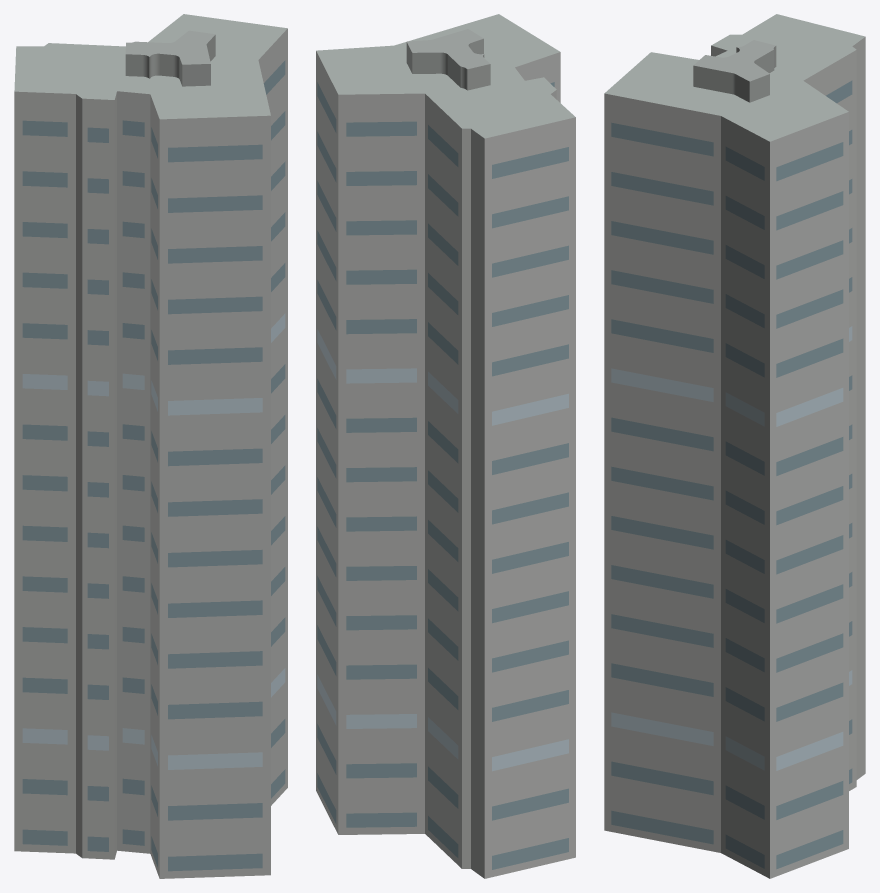
File: fallback-gangdong-lotte-castle-first-126.glb
The picture shows the model from 3 angles, left to right: view 1: azimuth 30°, elevation 25°; view 2: azimuth 150°, elevation 25°; view 3: azimuth 270°, elevation 25°; orthographic projection. The views are drawn at different scales.
Parts seen in each view (by area): view 1: fallback-gangdong-lotte-castle-first-126; view 2: fallback-gangdong-lotte-castle-first-126; view 3: fallback-gangdong-lotte-castle-first-126.
Boxes of the visible parts, x1,y1,x2,y2 form: fallback-gangdong-lotte-castle-first-126: (14, 14, 287, 878); fallback-gangdong-lotte-castle-first-126: (316, 14, 575, 878); fallback-gangdong-lotte-castle-first-126: (604, 14, 865, 878).
Bounding box in the file's own units: 31.1 × 86 × 26.86.
